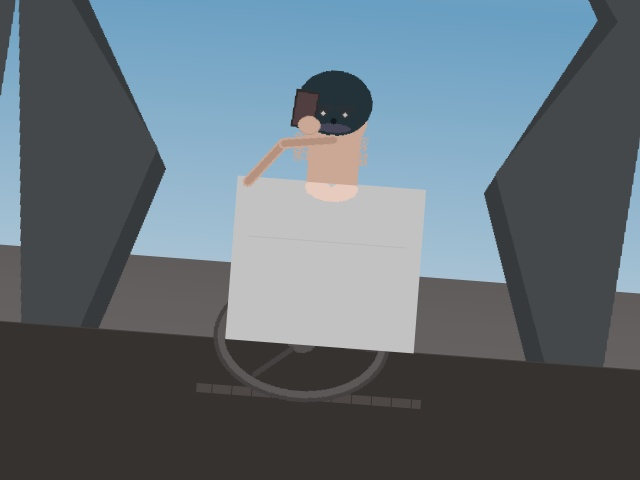phone_usage: (276, 84, 315, 138)
